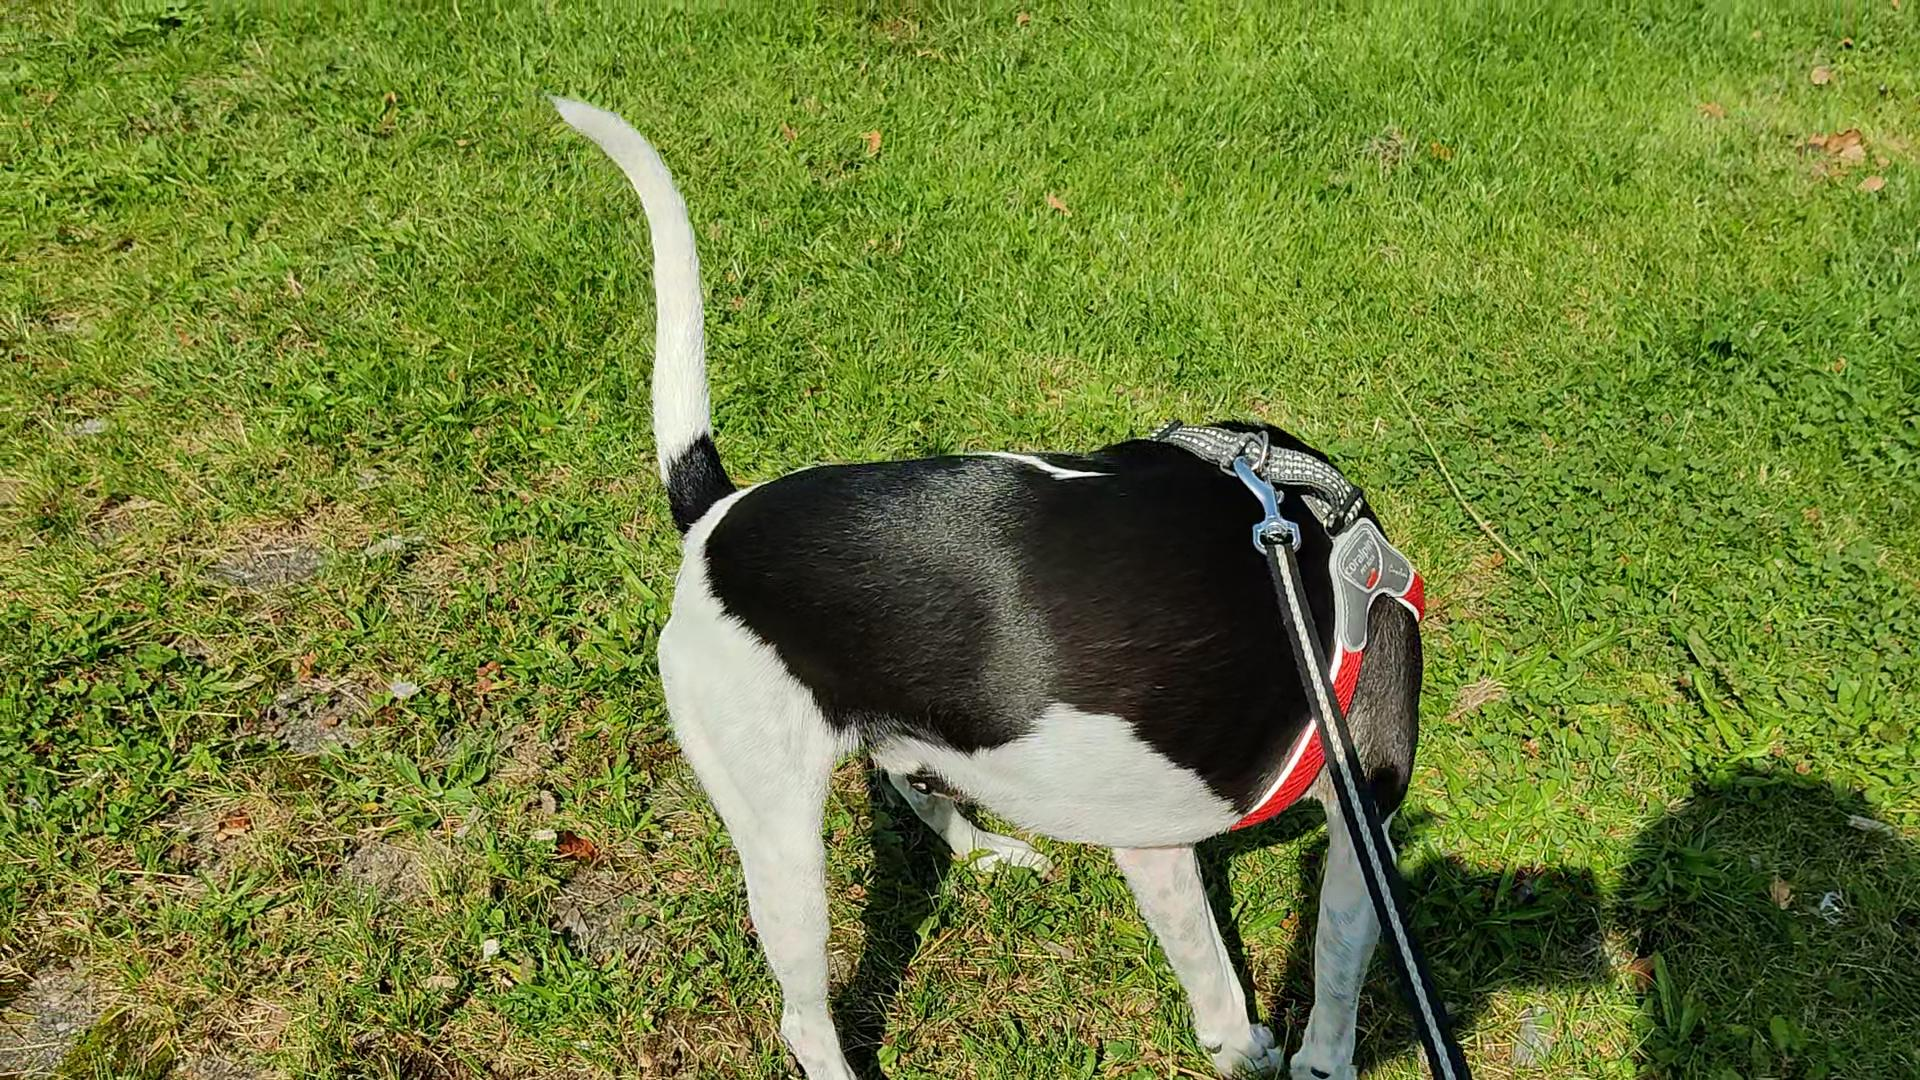Dog: (549, 88, 1425, 1079)
